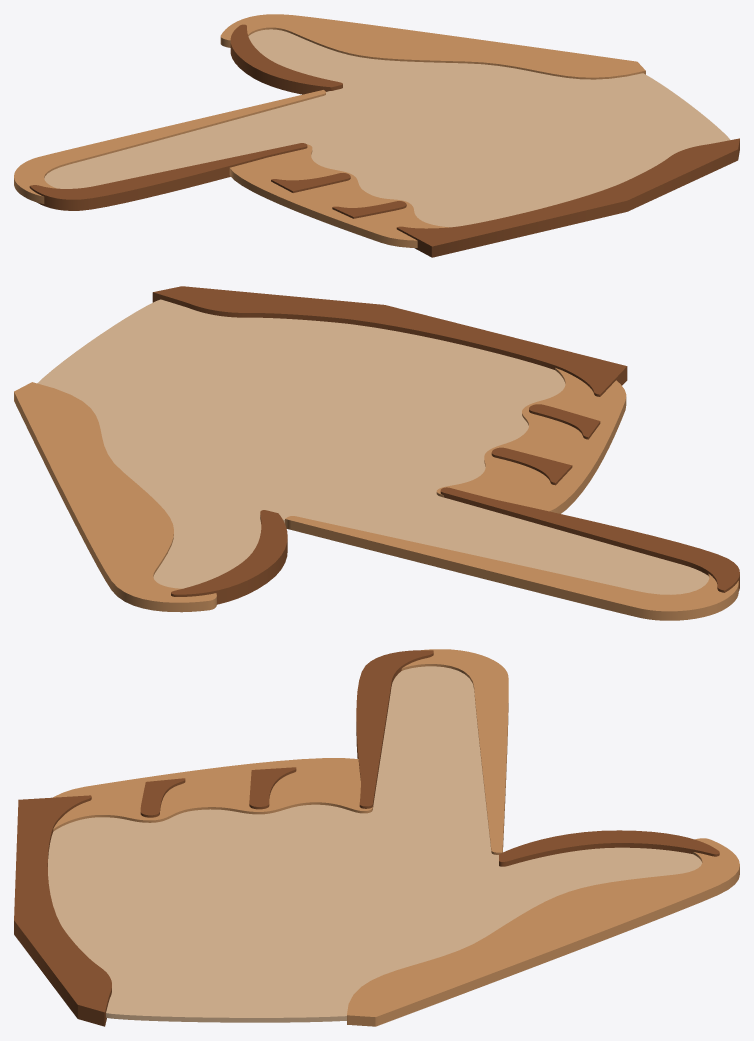
The model's file is emoji_u1f448_1f3fc.glb.
The picture shows the model from 3 angles, top to bottom: view 1: azimuth 30°, elevation 25°; view 2: azimuth 150°, elevation 25°; view 3: azimuth 270°, elevation 25°; orthographic projection. The views are drawn at different scales.
Visible parts, largest first — view 1: emoji_u1f448_1f3fc; view 2: emoji_u1f448_1f3fc; view 3: emoji_u1f448_1f3fc.
Boxes of the visible parts, x1,y1,x2,y2 form: emoji_u1f448_1f3fc: (14,14,739,257); emoji_u1f448_1f3fc: (14,286,739,620); emoji_u1f448_1f3fc: (14,649,739,1026).
Size of the model in its own units: 0.0331 by 0.0006 by 0.0276.
